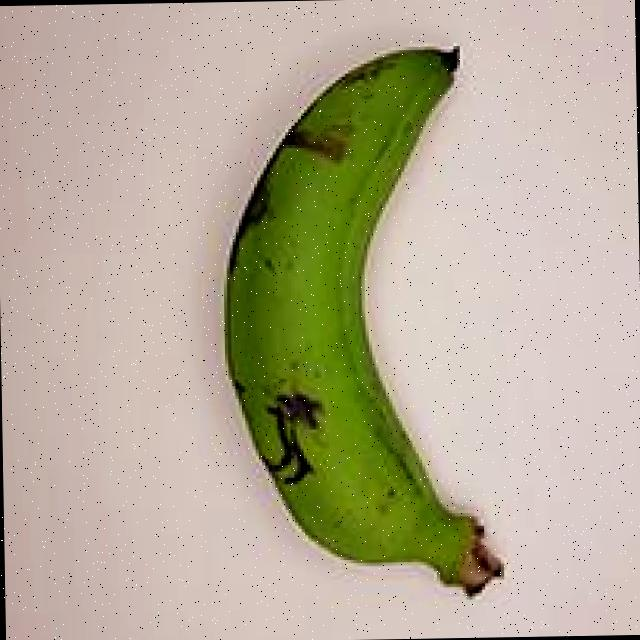Raw: (166, 14, 561, 617)
